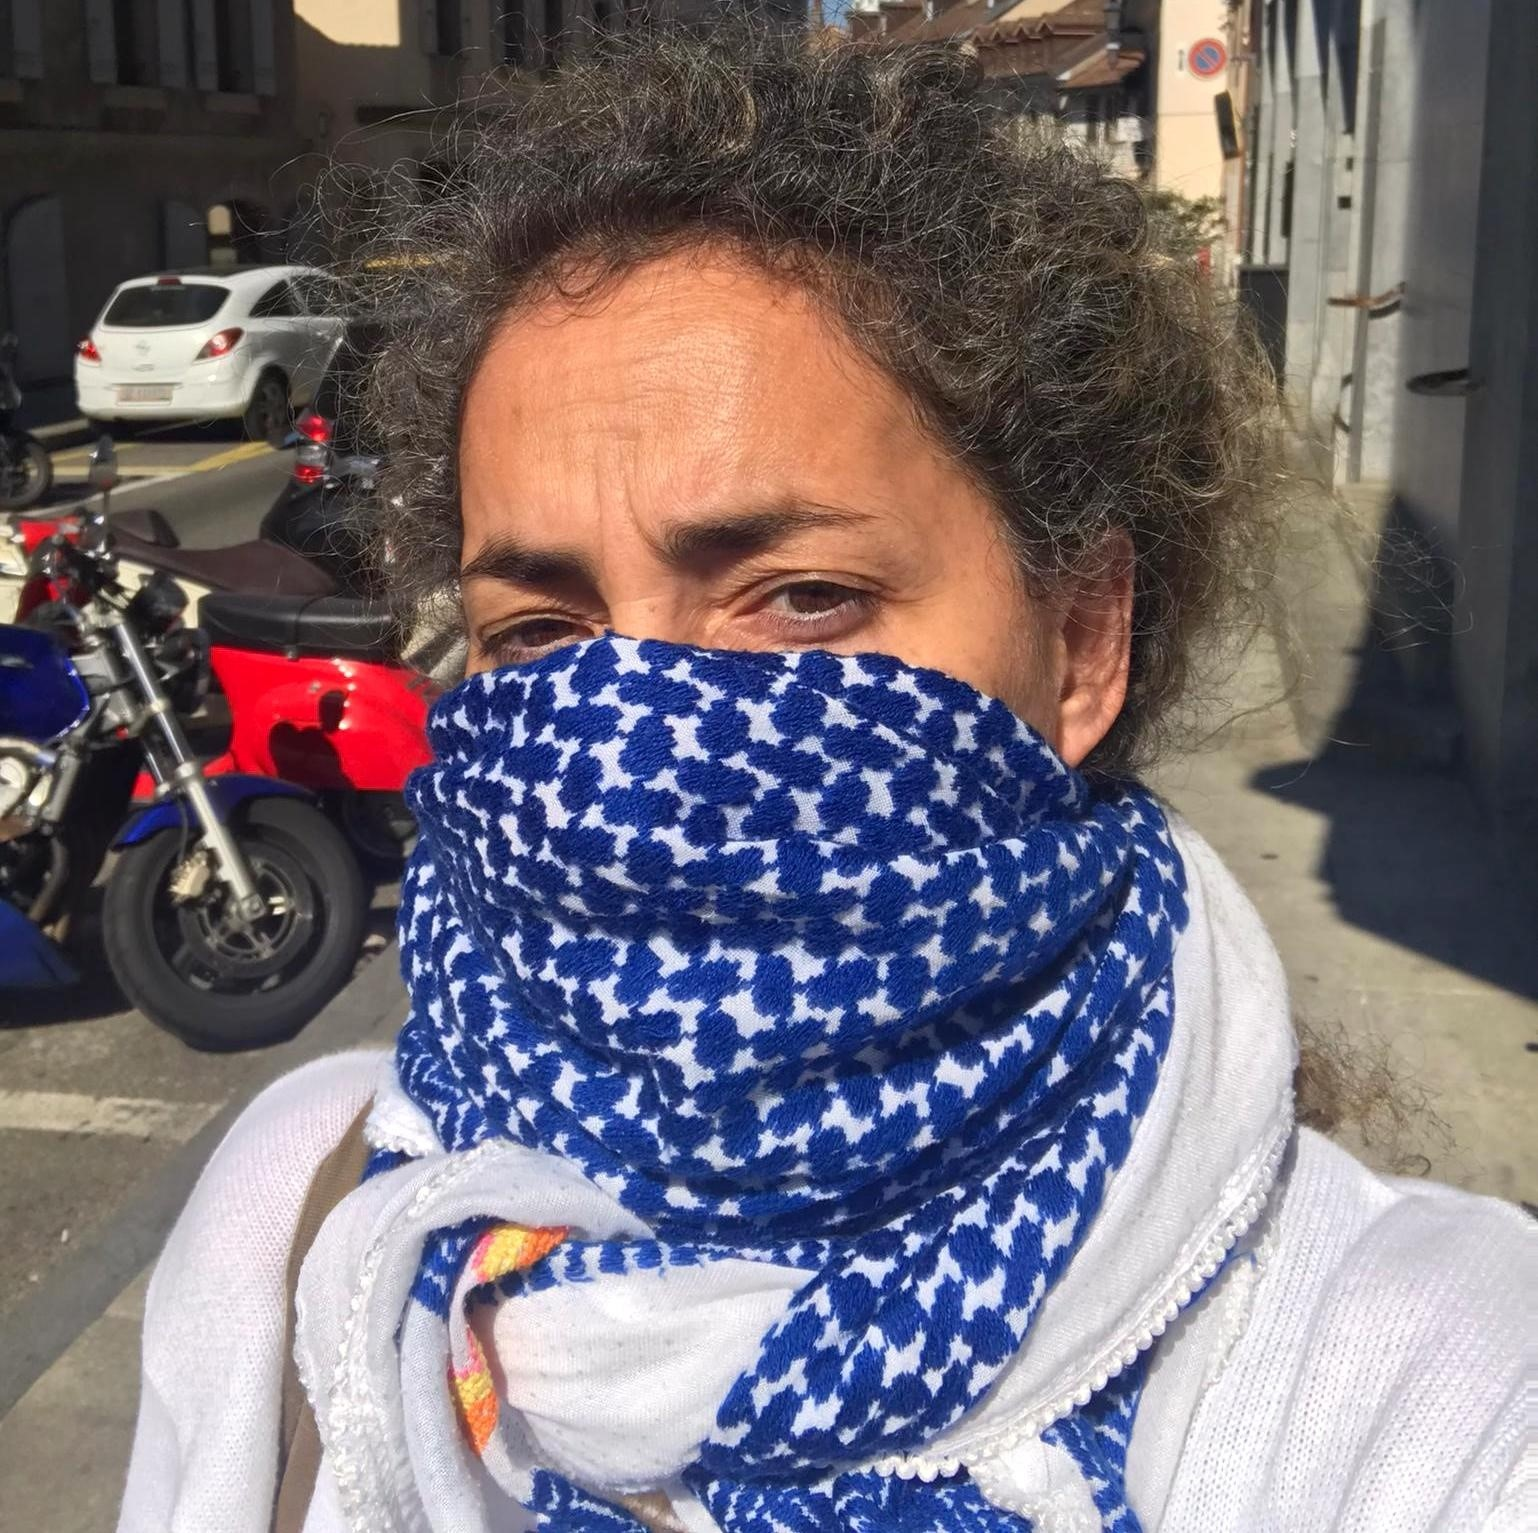face_with_mask: (426, 103, 1168, 1166)
